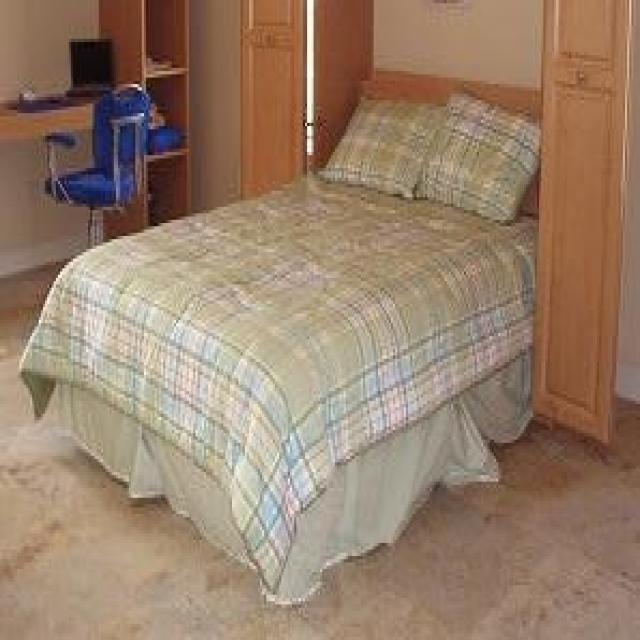bed: (17, 68, 541, 604)
chair: (43, 80, 150, 246)
